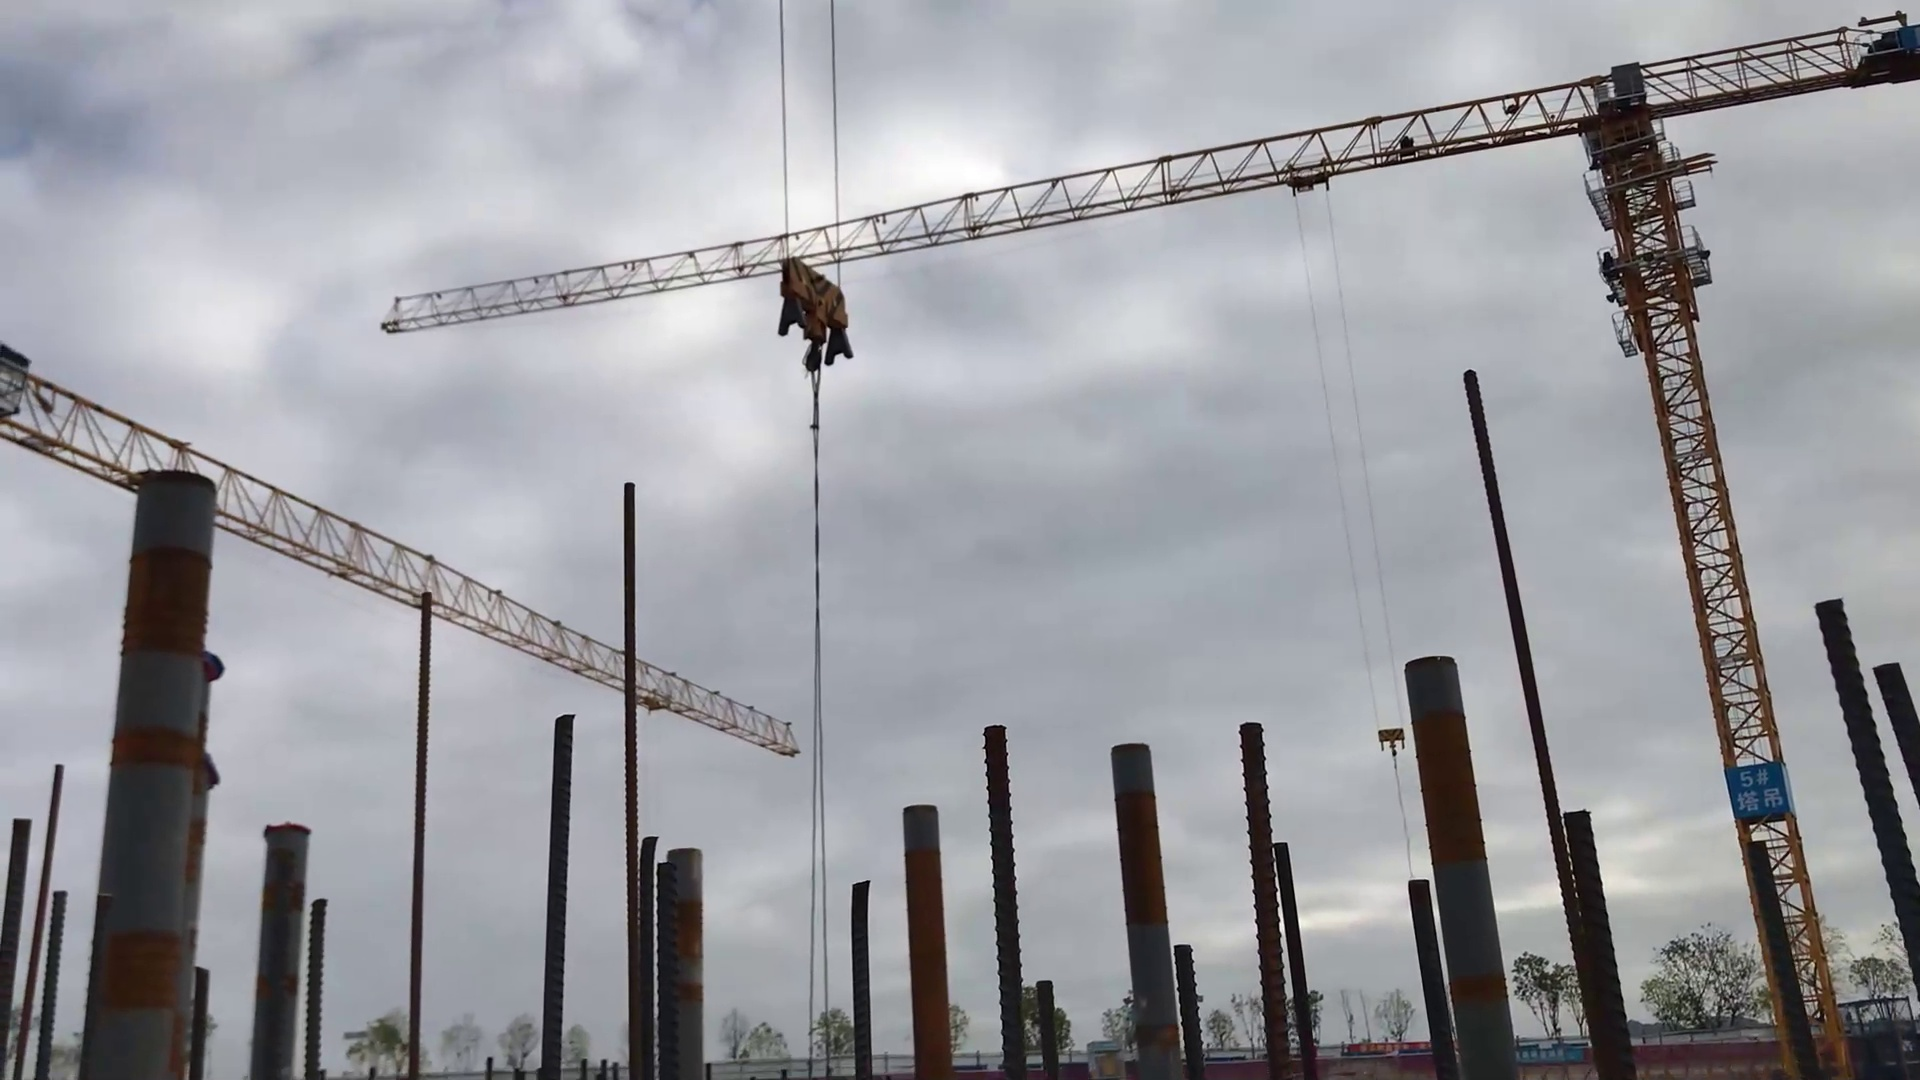hook: (769, 249, 856, 386)
